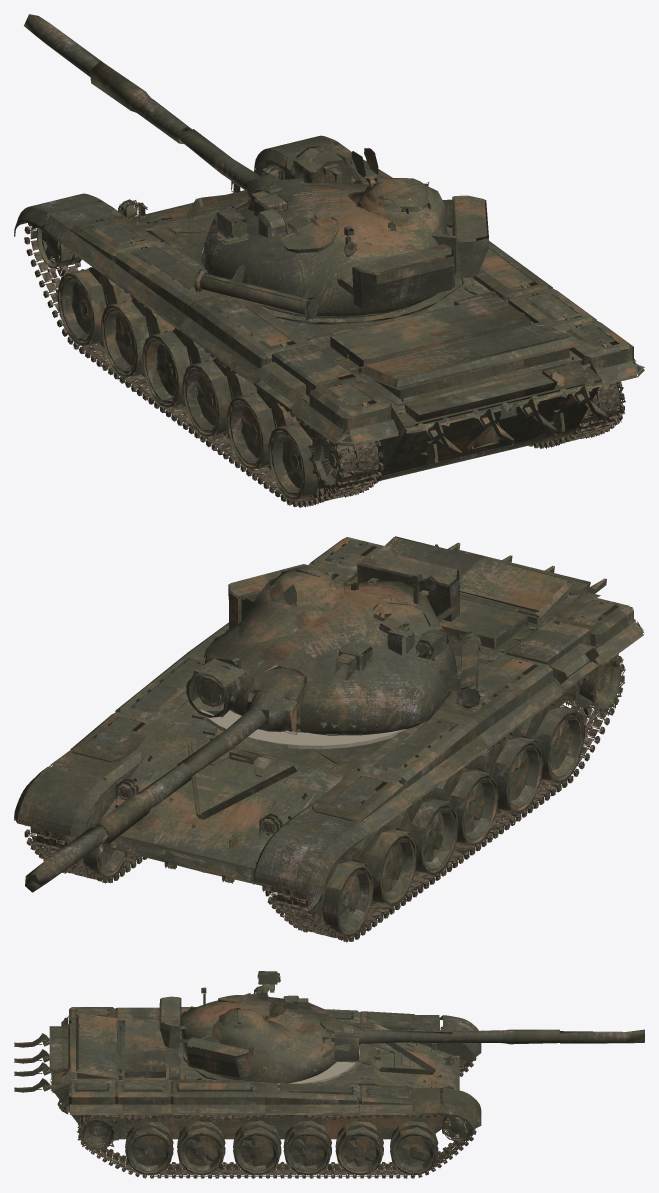
The picture shows the model from 3 angles, top to bottom: view 1: azimuth 30°, elevation 25°; view 2: azimuth 150°, elevation 25°; view 3: azimuth 270°, elevation 25°; orthographic projection. The views are drawn at different scales.
Parts seen in each view (by area): view 1: Hull, Turret; view 2: Hull, Turret; view 3: Hull, Turret.
Boxes of the visible parts, x1,y1,x2,y2 form: Hull: (14,135,644,507); Turret: (24,14,456,316); Hull: (14,536,644,942); Turret: (25,565,456,892); Hull: (14,971,481,1178); Turret: (181,971,644,1083).
Size of the model in its own units: 3.48 by 2.47 by 9.69.
3 materials, 2 textured.
